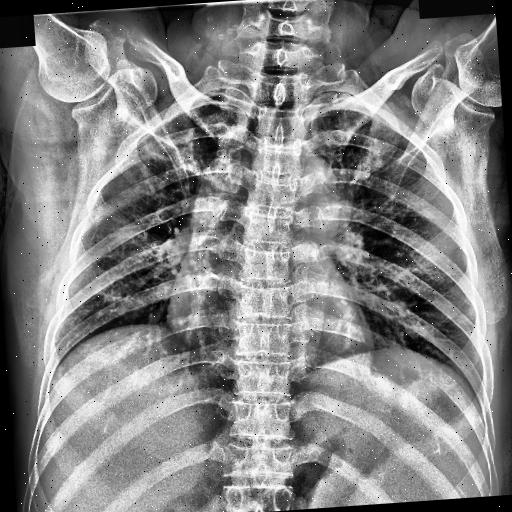0- Aortic enlargement: (185, 131, 343, 250), (252, 144, 346, 256), (283, 148, 340, 237)
11- Pleural thickening: (197, 88, 228, 102)
13- Pulmonary fibrosis: (118, 206, 186, 230)
